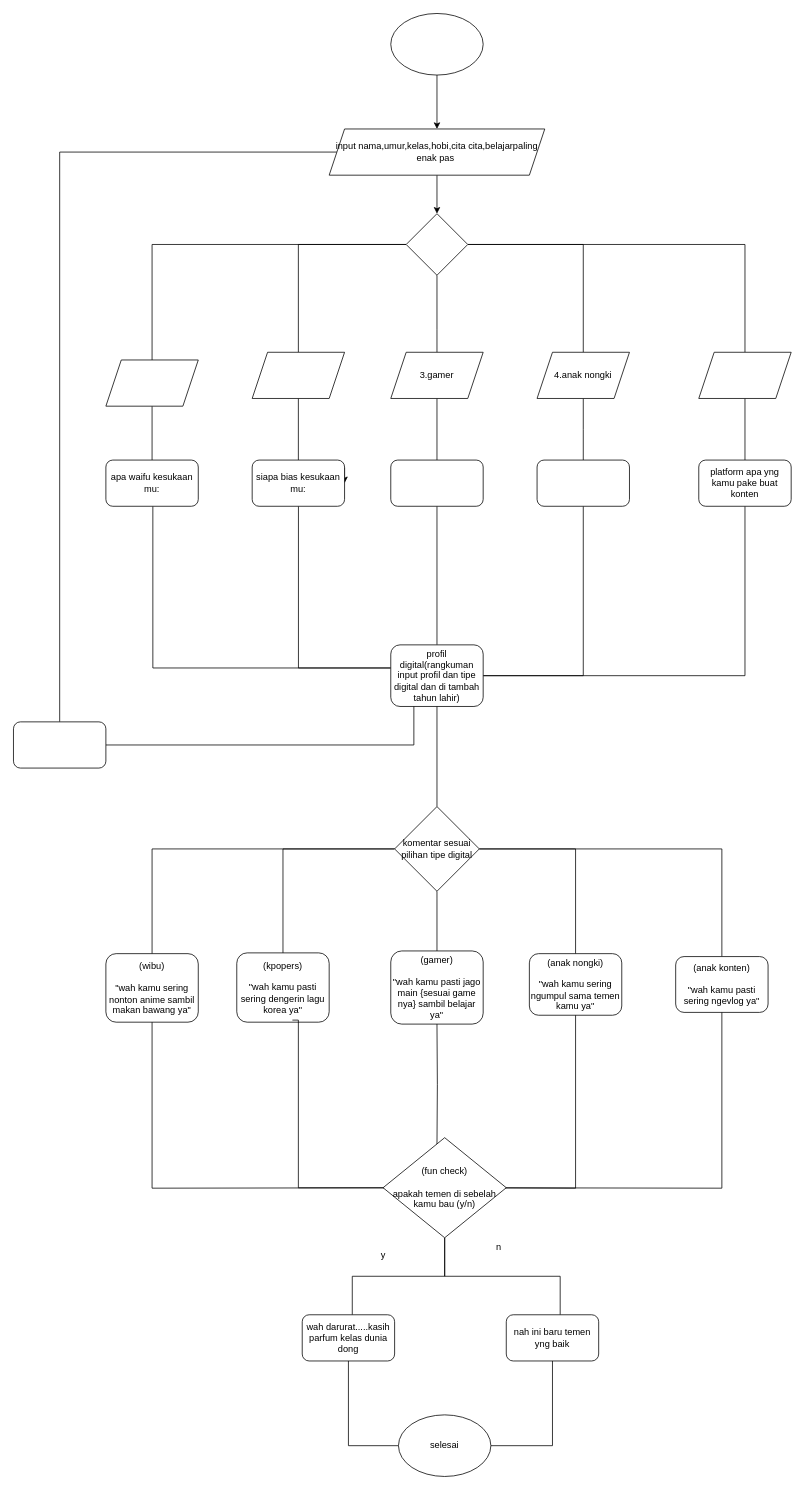
Image size: 805x1490. Some labels were removed from this diagram. Each missing label, with the centre of its shape:
1.wibu: (151,382)
2.kpopers: (298,375)
5.anak konten: (744,375)
game kesukaan:: (436,482)
mulai: (436,44)
nongkrong enak nya di mana: (582,482)
tahun lahir=2025-umur: (59,744)
tipe digital: (436,244)
